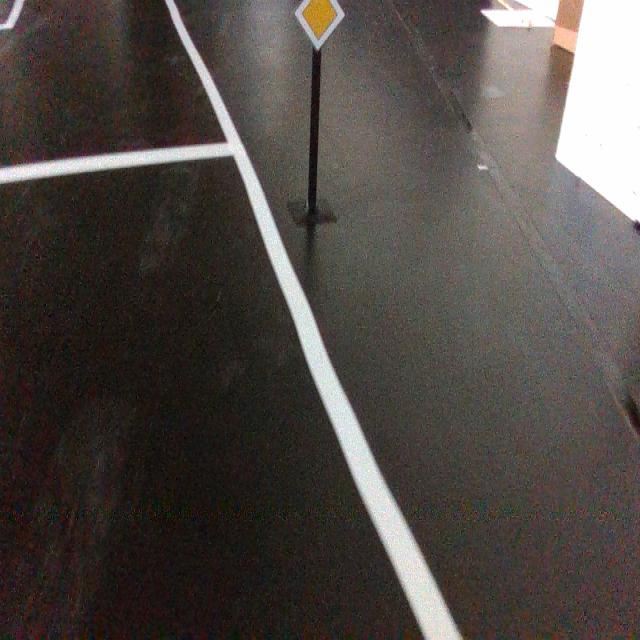priority-sign: (293, 0, 346, 52)
